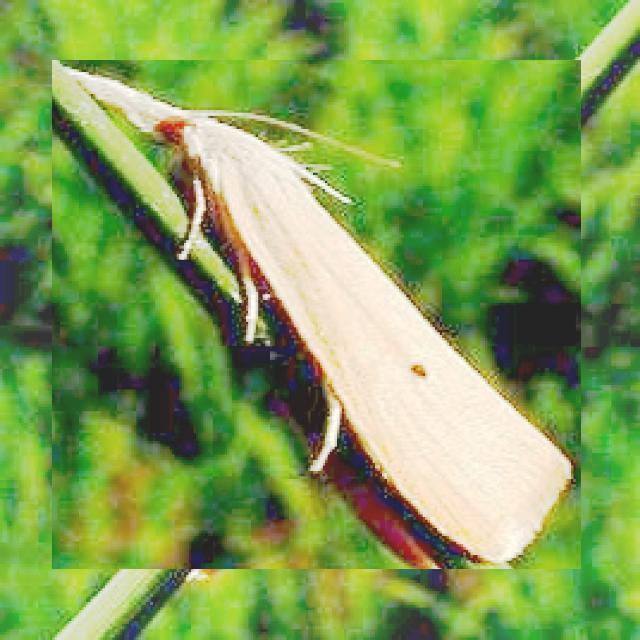stem-borer: (52, 60, 581, 569)
